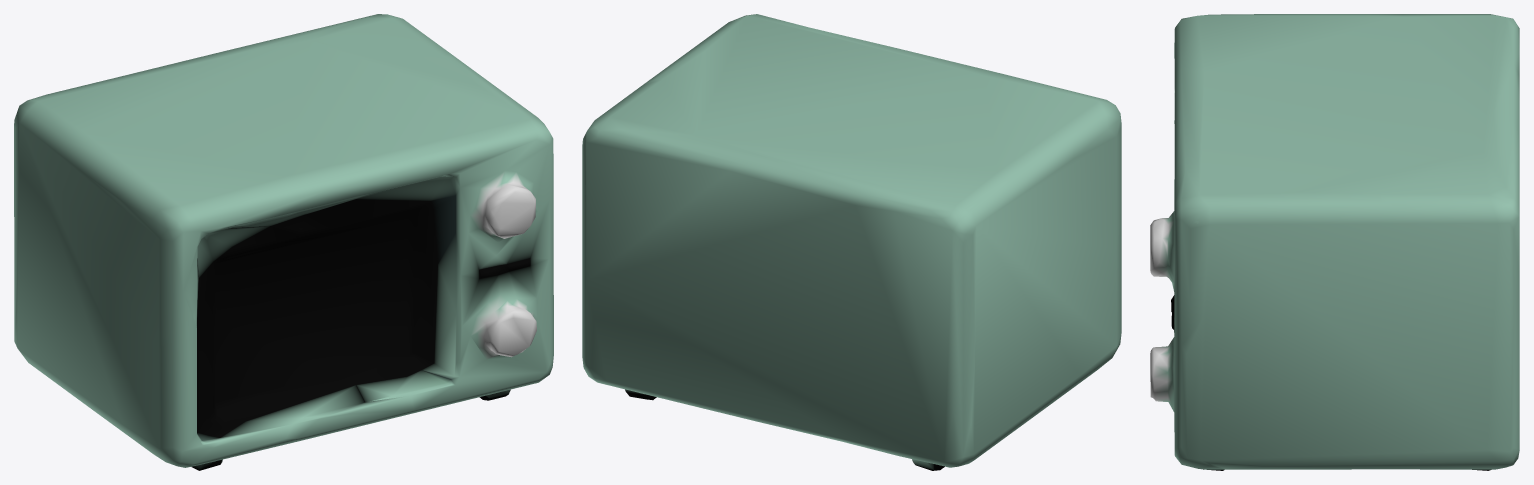
File: gen3d-microwave-lod1.glb
3 views of the same model, side by side, from view 1: azimuth 30°, elevation 25°; view 2: azimuth 150°, elevation 25°; view 3: azimuth 270°, elevation 25° (orthographic). The views are drawn at different scales.
Visible parts, largest first — view 1: part_0; view 2: part_0; view 3: part_0.
Part boxes in pixels (left/top/right/bottom): part_0: left=14, top=14, right=553, bottom=470; part_0: left=582, top=14, right=1121, bottom=470; part_0: left=1150, top=14, right=1519, bottom=470.
Size of the model in its own units: 1.49 by 1 by 1.17.
